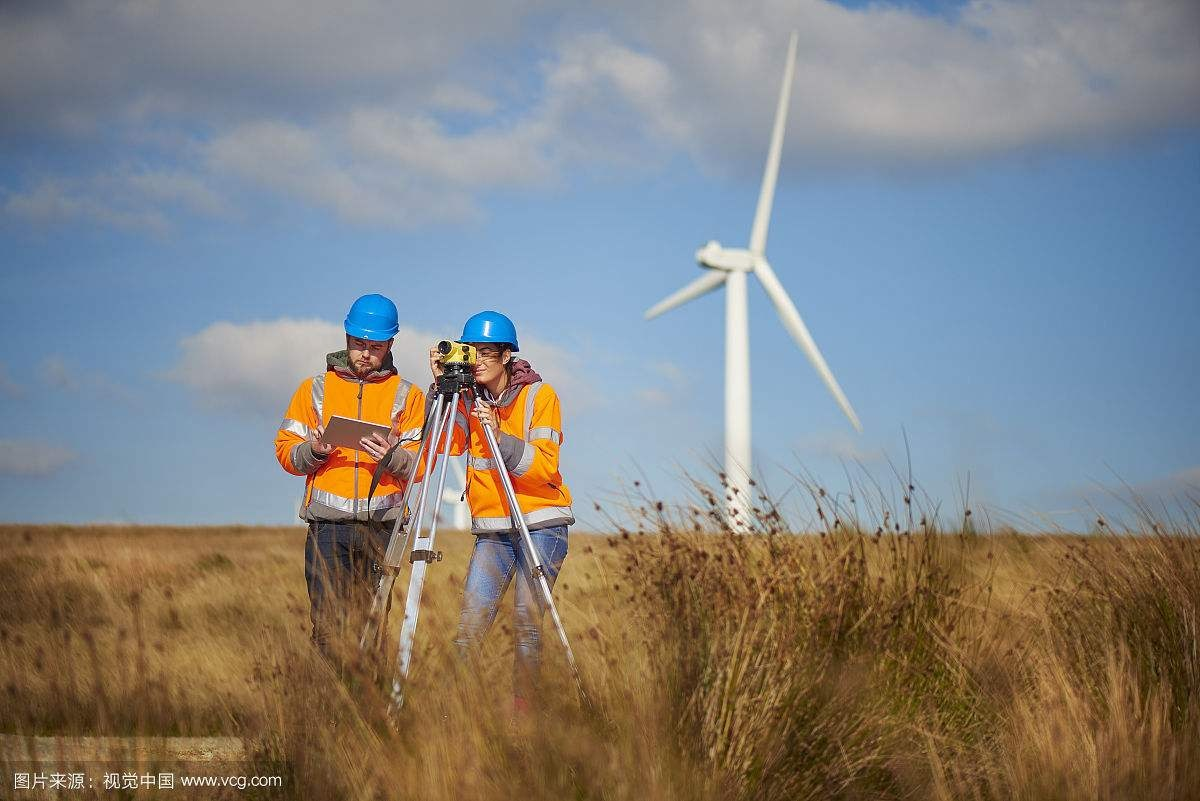blue: (339, 293, 400, 373), (458, 306, 516, 389)
